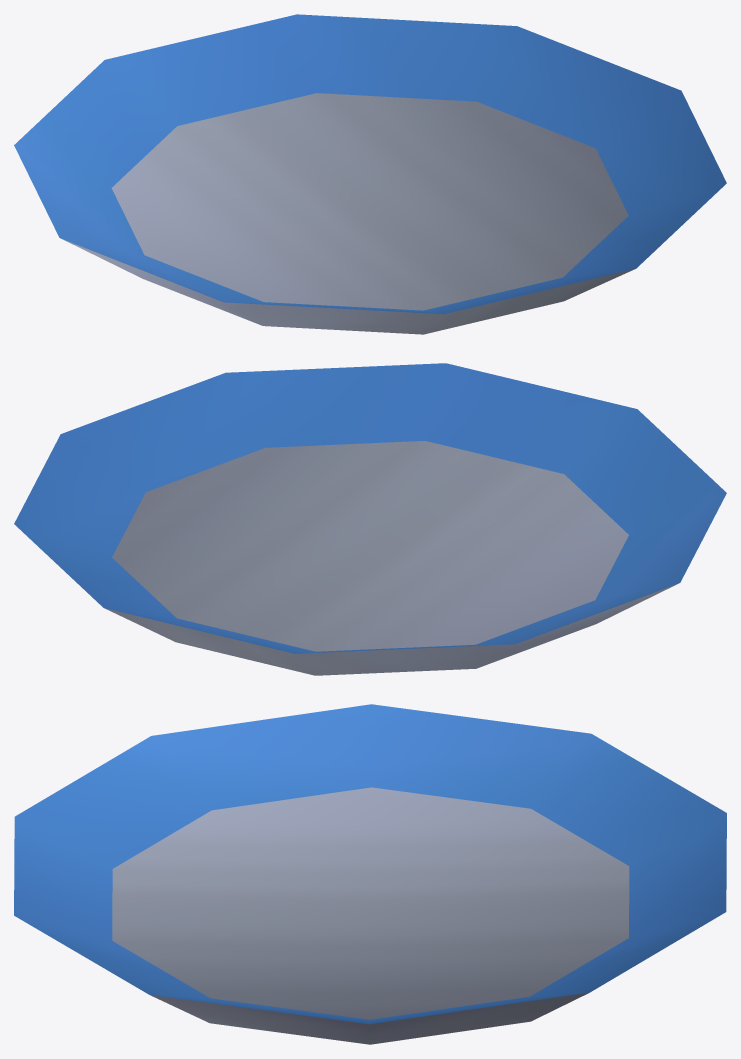
File: plate.fbx
3 views of the same model, one above another, from view 1: azimuth 30°, elevation 25°; view 2: azimuth 150°, elevation 25°; view 3: azimuth 270°, elevation 25° (orthographic). The views are drawn at different scales.
Parts seen in each view (by area): view 1: Plate; view 2: Plate; view 3: Plate.
Boxes of the visible parts, x1,y1,x2,y2 form: Plate: (14, 14, 726, 334); Plate: (14, 363, 726, 675); Plate: (14, 704, 726, 1044).
Size of the model in its own units: 34.37 by 3.48 by 32.72.
